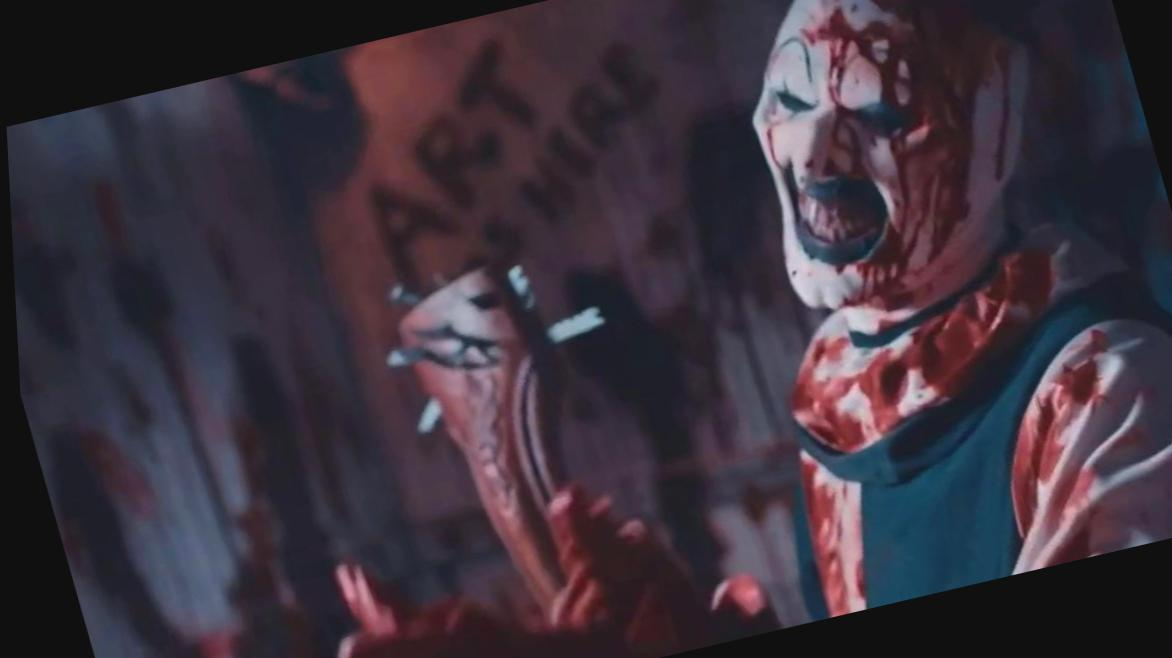Fire: (8, 0, 1172, 658), (996, 297, 1172, 577)
